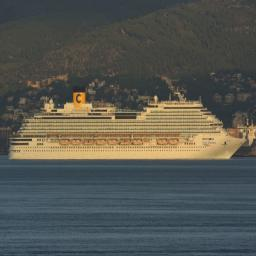cruises: (8, 83, 249, 166)
